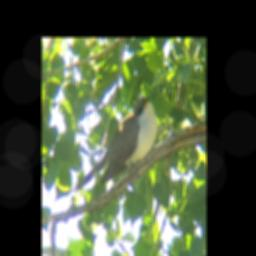Cuckoo: (69, 96, 158, 194)
